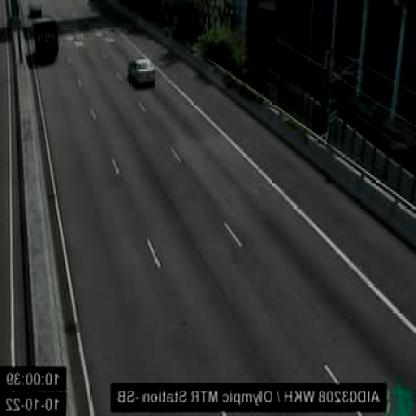Car: (130, 56, 158, 88)
Truck: (32, 16, 59, 61)
